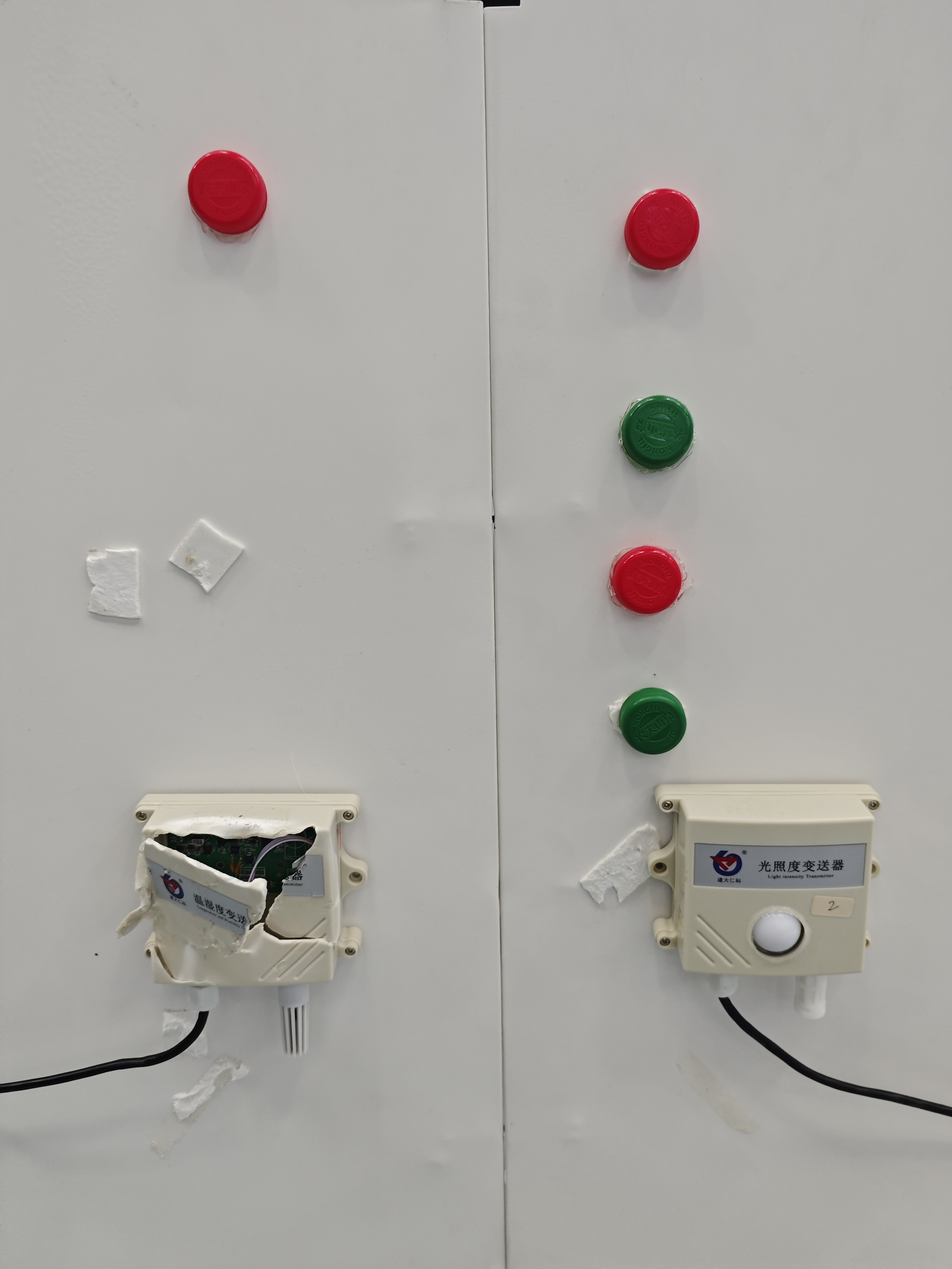red_warning: (161, 123, 293, 261), (595, 519, 725, 641), (620, 149, 698, 309)
sensor_damage: (108, 760, 395, 1085)
